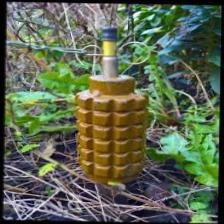POMZ2: (63, 15, 151, 212)
